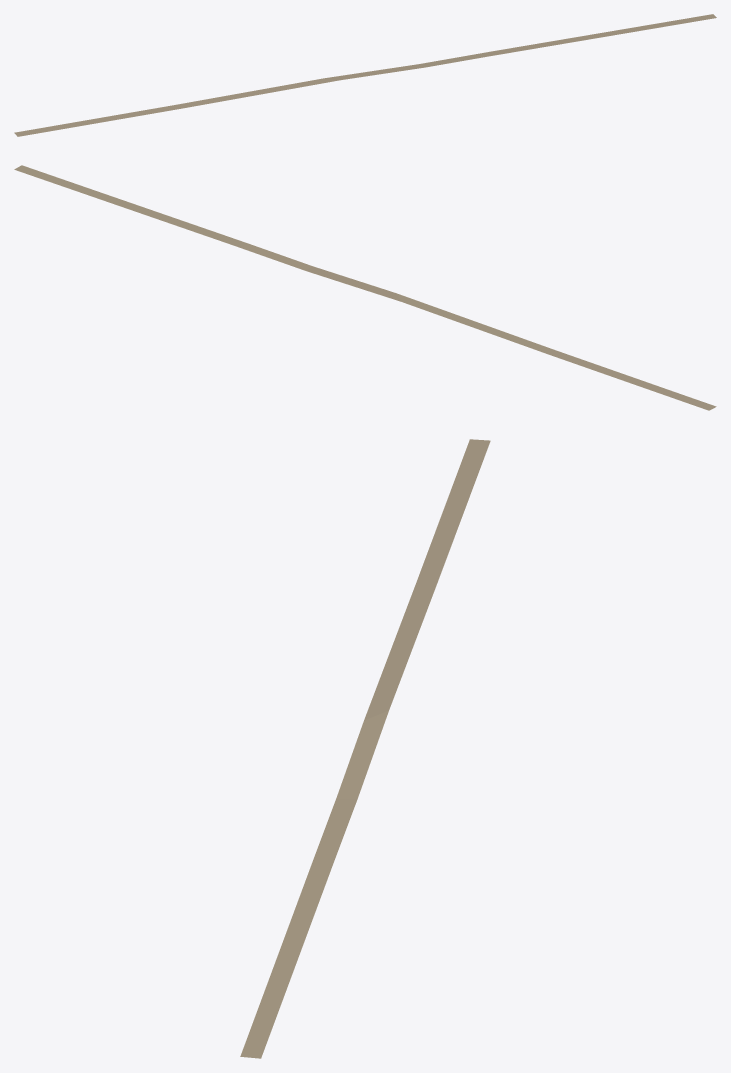
The model's file is farm_17_18_track.glb.
3 views of the same model, one above another, from view 1: azimuth 30°, elevation 25°; view 2: azimuth 150°, elevation 25°; view 3: azimuth 270°, elevation 25° (orthographic). The views are drawn at different scales.
Visible parts, largest first — view 1: geometry_0; view 2: geometry_0; view 3: geometry_0.
Part boxes in pixels (<box>): geometry_0: <box>14,14,716,136</box>; geometry_0: <box>14,165,716,410</box>; geometry_0: <box>240,439,490,1058</box>.
Size of the model in its own units: 231 by 1.51 by 38.93.
